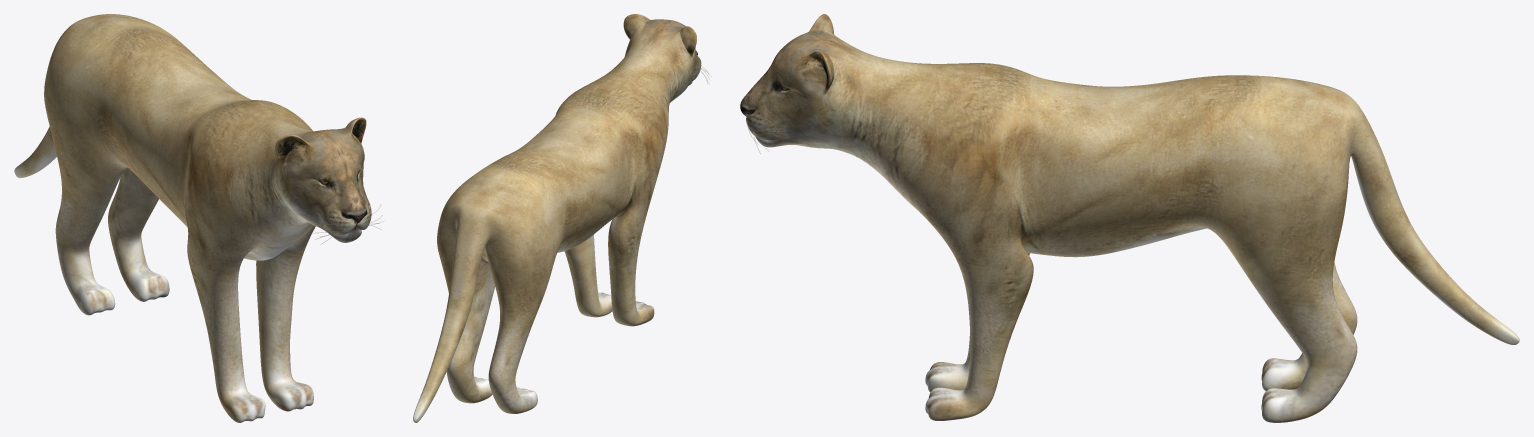
File: lion.gltf
3 renders of one model, left to right at view 1: azimuth 30°, elevation 25°; view 2: azimuth 150°, elevation 25°; view 3: azimuth 270°, elevation 25°, orthographic. The views are drawn at different scales.
Parts seen in each view (by area): view 1: 12273_Lion_v1_l3; view 2: 12273_Lion_v1_l3; view 3: 12273_Lion_v1_l3.
Part boxes in pixels (<box>): 12273_Lion_v1_l3: <box>14,14,383,422</box>; 12273_Lion_v1_l3: <box>413,14,711,422</box>; 12273_Lion_v1_l3: <box>740,14,1519,422</box>.
Bounding box in the file's own units: 43.56 × 110 × 211.
Materials: 2 (1 with a texture image).
